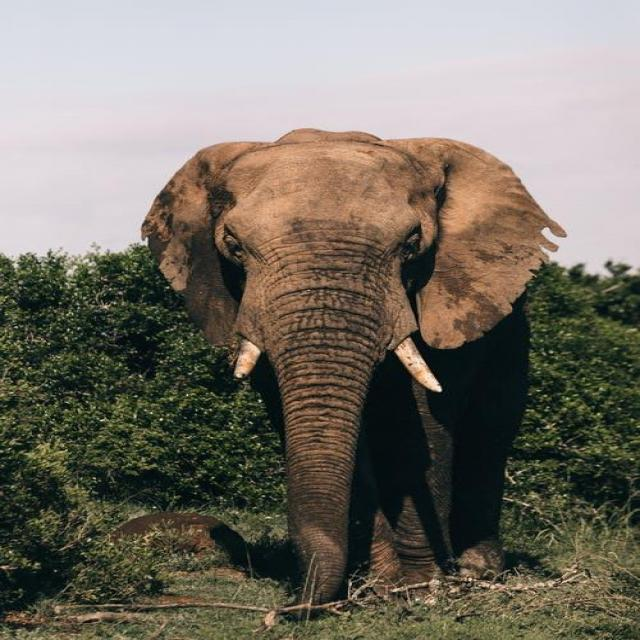Elephant: (142, 125, 584, 618)
